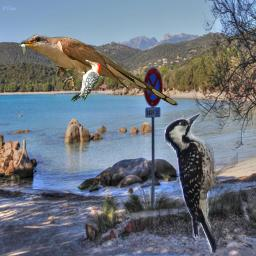Cuckoo: (16, 34, 179, 106)
Woodpecker: (163, 111, 238, 253), (69, 58, 101, 104)
